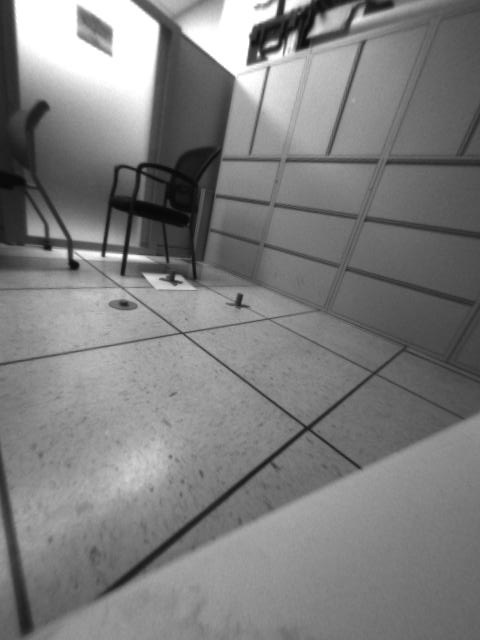X: (155, 266, 185, 288), (225, 290, 250, 309)
